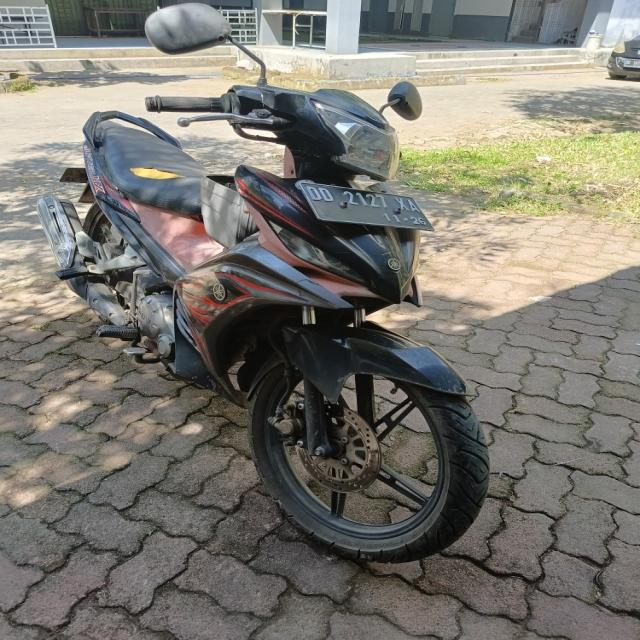plates: (296, 186, 439, 230)
